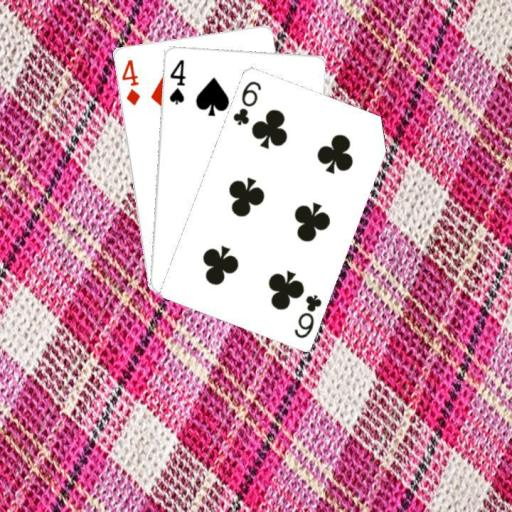4D: (118, 56, 141, 107)
4S: (166, 56, 187, 106)
6C: (230, 78, 263, 127), (291, 290, 323, 339)
